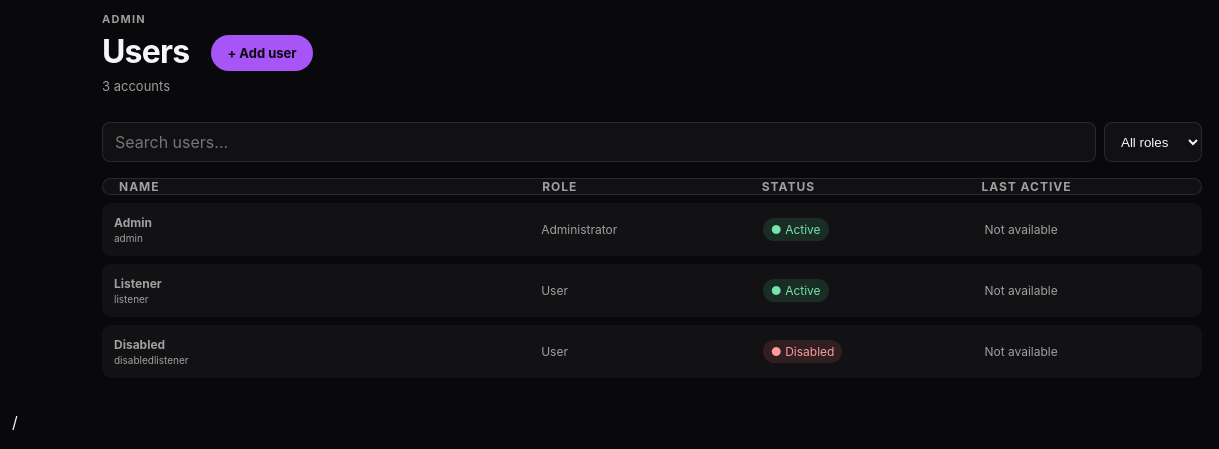
Test case: Users page › opens the user management view when clicking a user
Check: the text "listener" is shown, box [114,293,149,305]
Click the row "Listener listener User ● Active Not available" at (138, 284), box [102,264,1202,317]
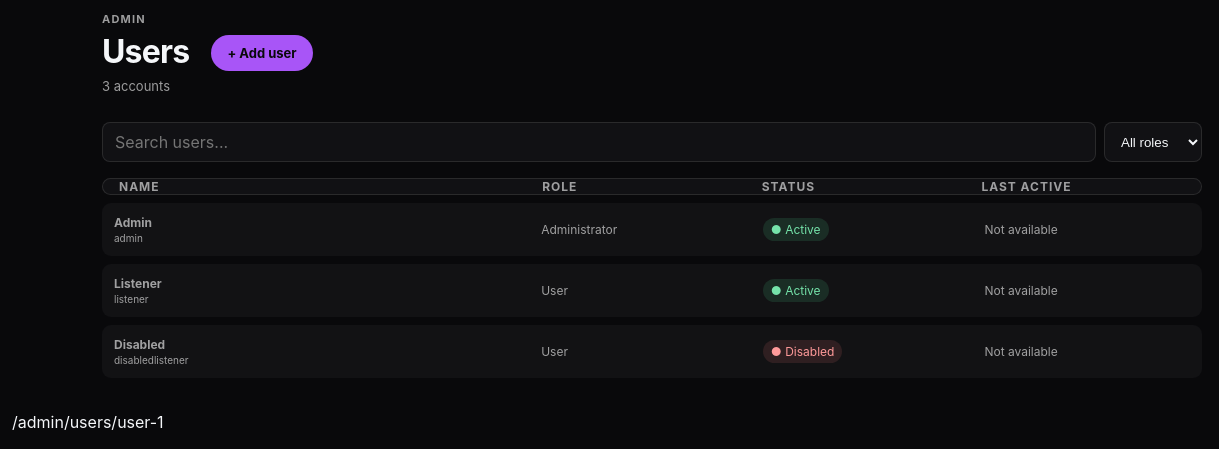
Check: the text with test id "location" reads "/admin/users/user-1", box [12,412,164,432]
